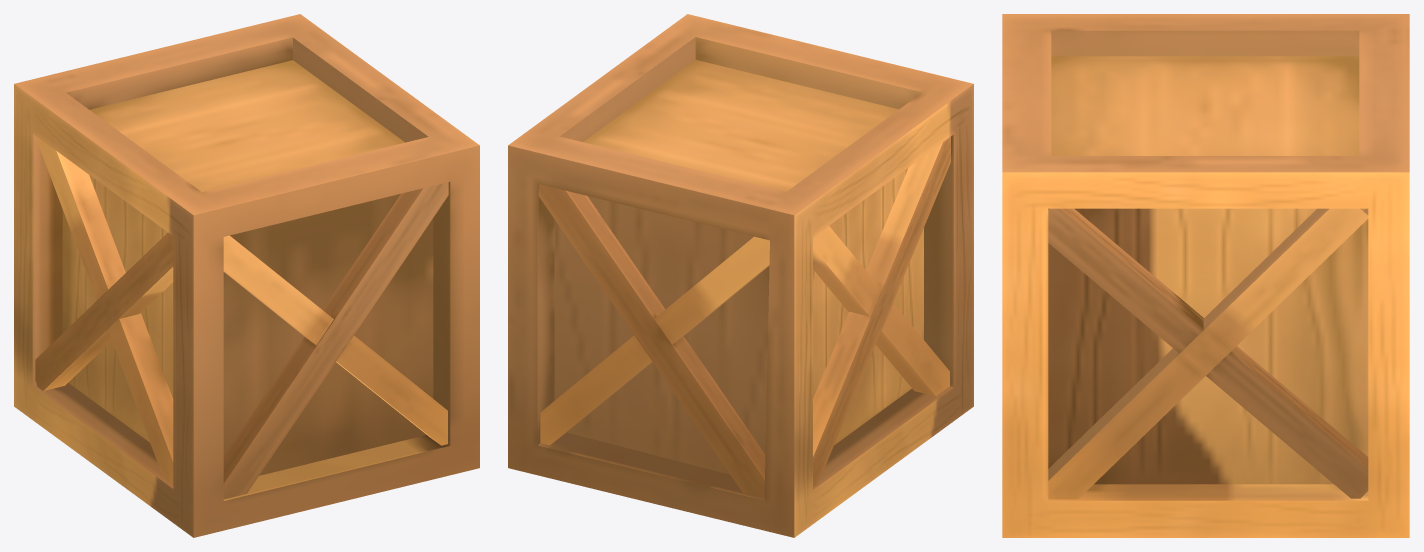
File: SM_Stylized_Box_var2.fbx
The picture shows the model from 3 angles, left to right: view 1: azimuth 30°, elevation 25°; view 2: azimuth 150°, elevation 25°; view 3: azimuth 270°, elevation 25°; orthographic projection. The views are drawn at different scales.
Parts seen in each view (by area): view 1: SM_Stylized_Box_var2_LOD0; view 2: SM_Stylized_Box_var2_LOD0; view 3: SM_Stylized_Box_var2_LOD0.
Part boxes in pixels (x1,y1,x2,y2): SM_Stylized_Box_var2_LOD0: [14, 14, 479, 537]; SM_Stylized_Box_var2_LOD0: [508, 14, 973, 537]; SM_Stylized_Box_var2_LOD0: [1002, 14, 1409, 537].
Bounding box in the file's own units: 65.48 × 71.13 × 70.5.
